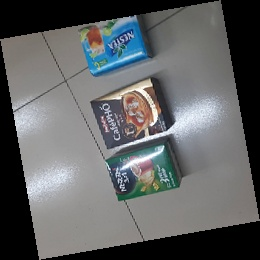CF pho: (89, 73, 175, 150)
Nes Rang: (104, 138, 184, 204)
Nestea: (78, 11, 153, 77)
